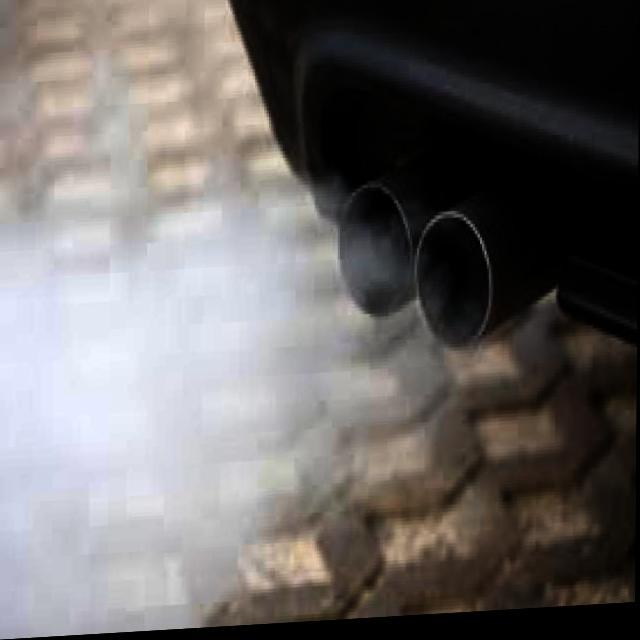Smoke: (0, 159, 512, 640)
